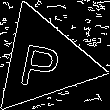P_N: (20, 32, 68, 90)
